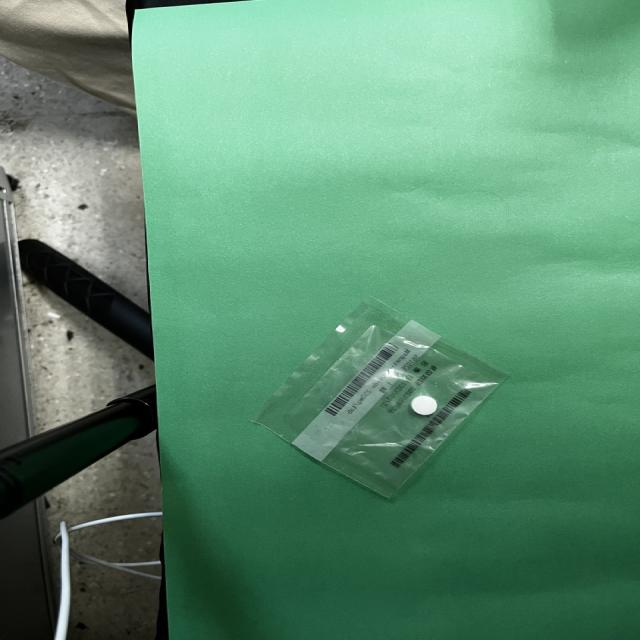Other Objects: (254, 298, 507, 498)
